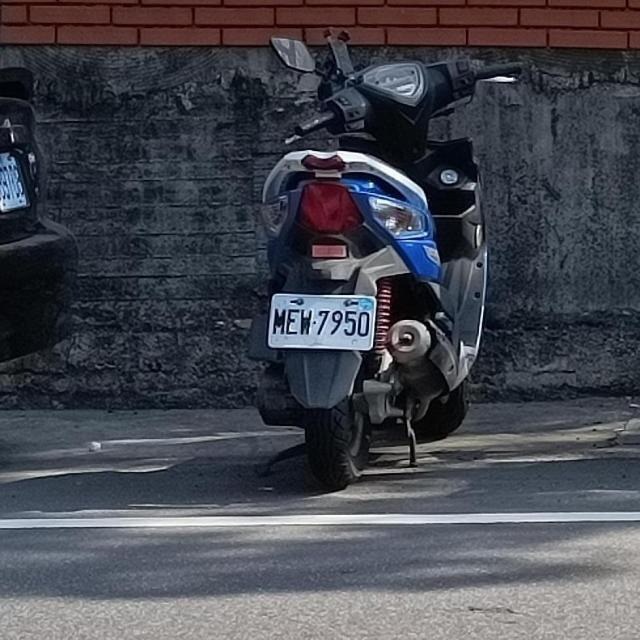W: (264, 291, 383, 353)
